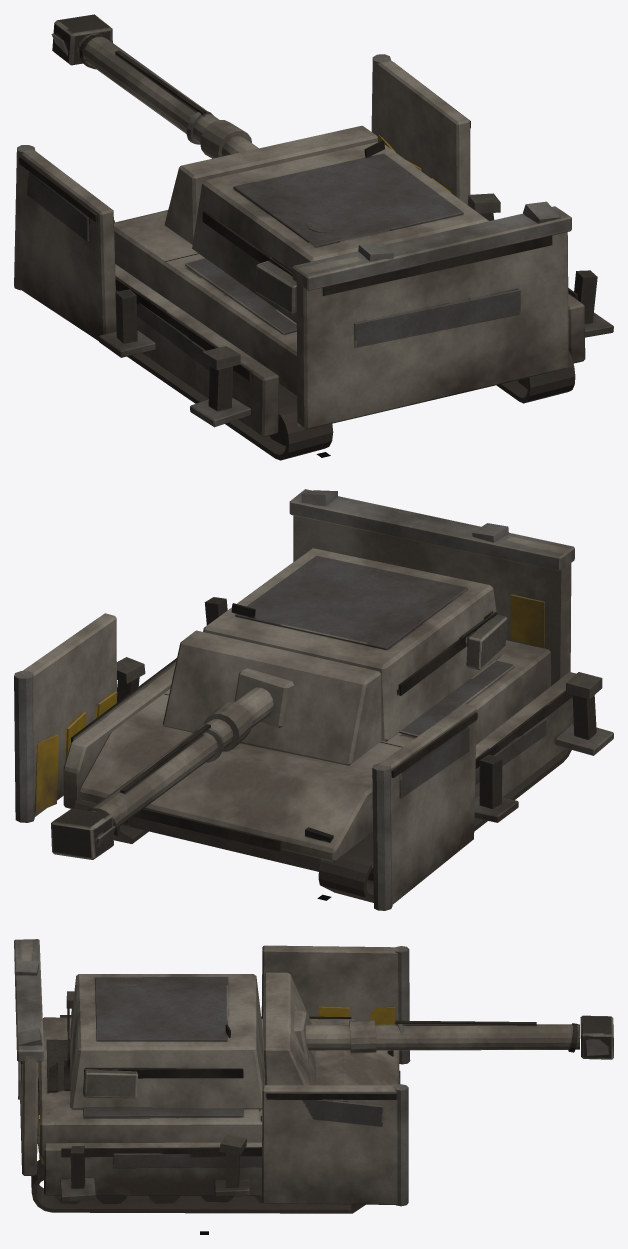
The model's file is ord_warden_wreck.fbx.
3 renders of one model, top to bottom at view 1: azimuth 30°, elevation 25°; view 2: azimuth 150°, elevation 25°; view 3: azimuth 270°, elevation 25°, orthographic. The views are drawn at different scales.
Visible parts, largest first — view 1: spades_bar, turret_bar, base_bar, shieldL_bar, shieldR_bar, barrel_bar, jacks_bar; view 2: base_bar, turret_bar, spades_bar, shieldL_bar, shieldR_bar, barrel_bar, jacks_bar; view 3: turret_bar, base_bar, shieldR_bar, barrel_bar, shieldL_bar, spades_bar, jacks_bar.
Boxes of the visible parts, box(x1,y1,x2,y2) form: spades_bar: box(292, 201, 571, 429); turret_bar: box(164, 125, 488, 323); base_bar: box(114, 210, 585, 460); shieldL_bar: box(14, 145, 116, 340); shieldR_bar: box(371, 54, 470, 204); barrel_bar: box(51, 14, 258, 158); jacks_bar: box(99, 193, 613, 427); base_bar: box(63, 640, 575, 902); turret_bar: box(163, 548, 507, 765); spades_bar: box(289, 489, 574, 685); shieldL_bar: box(372, 704, 477, 910); shieldR_bar: box(14, 613, 117, 822); barrel_bar: box(51, 668, 294, 859); jacks_bar: box(117, 597, 613, 822); turret_bar: box(67, 972, 315, 1109); base_bar: box(31, 1015, 400, 1213); shieldR_bar: box(262, 1084, 408, 1206); barrel_bar: box(293, 1010, 613, 1061); shieldL_bar: box(261, 945, 410, 1064); spades_bar: box(14, 939, 43, 1175); jacks_bar: box(60, 991, 249, 1201).
Size of the model in its own units: 871 by 619 by 1372.
2 materials, 2 textured.
